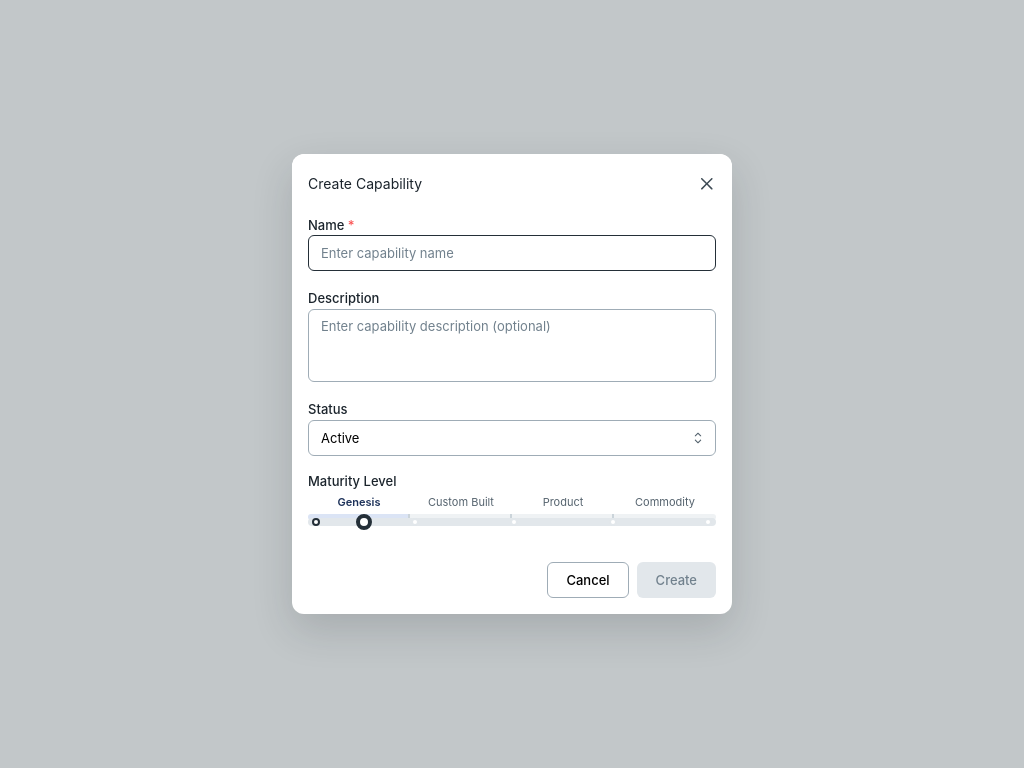
Test: CreateCapabilityDialog › Form validation › should enable submit button when name has content
The image size is (1024, 768).
Type "Test Capability" into the field with test id "capability-name-input" at [512, 253], box x1=308 y1=235 x2=716 y2=271
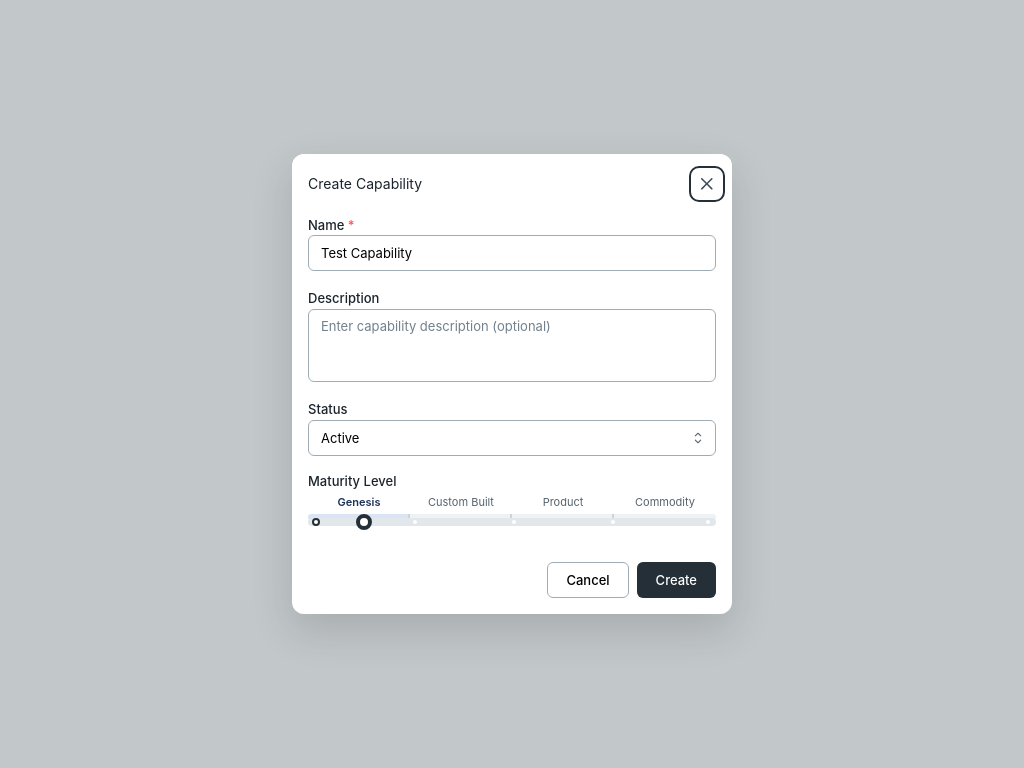
Check: the button with test id "create-capability-submit" is enabled, box x1=637 y1=562 x2=716 y2=598
